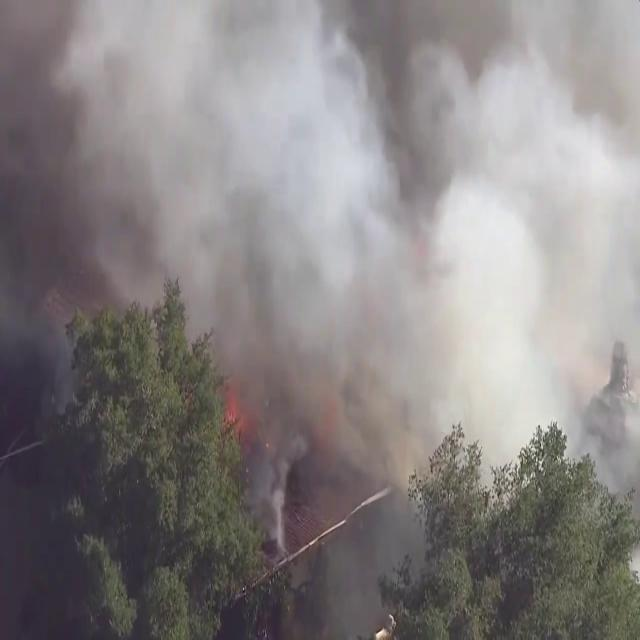Smoke: (122, 0, 638, 612)
